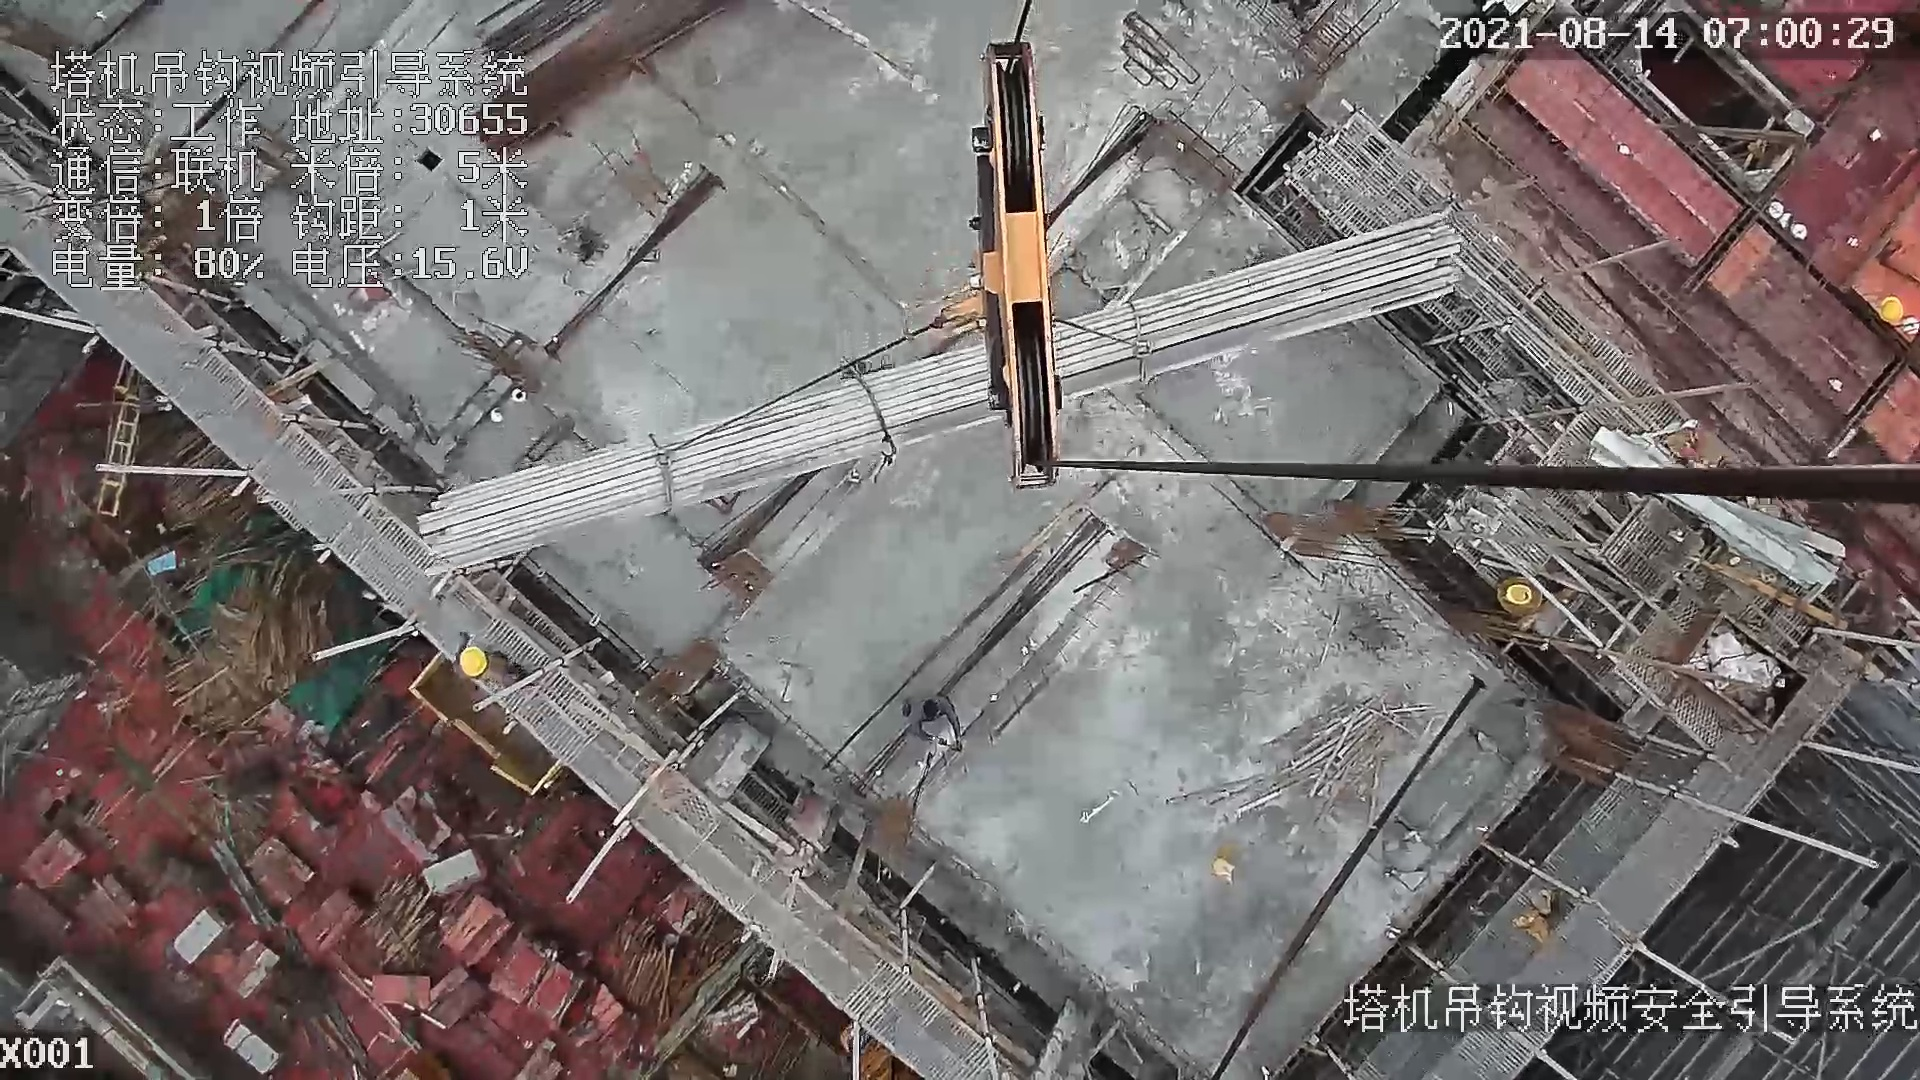helmet: (460, 643, 489, 687)
hook: (938, 31, 1073, 487)
person: (453, 633, 535, 691), (901, 692, 969, 758)
